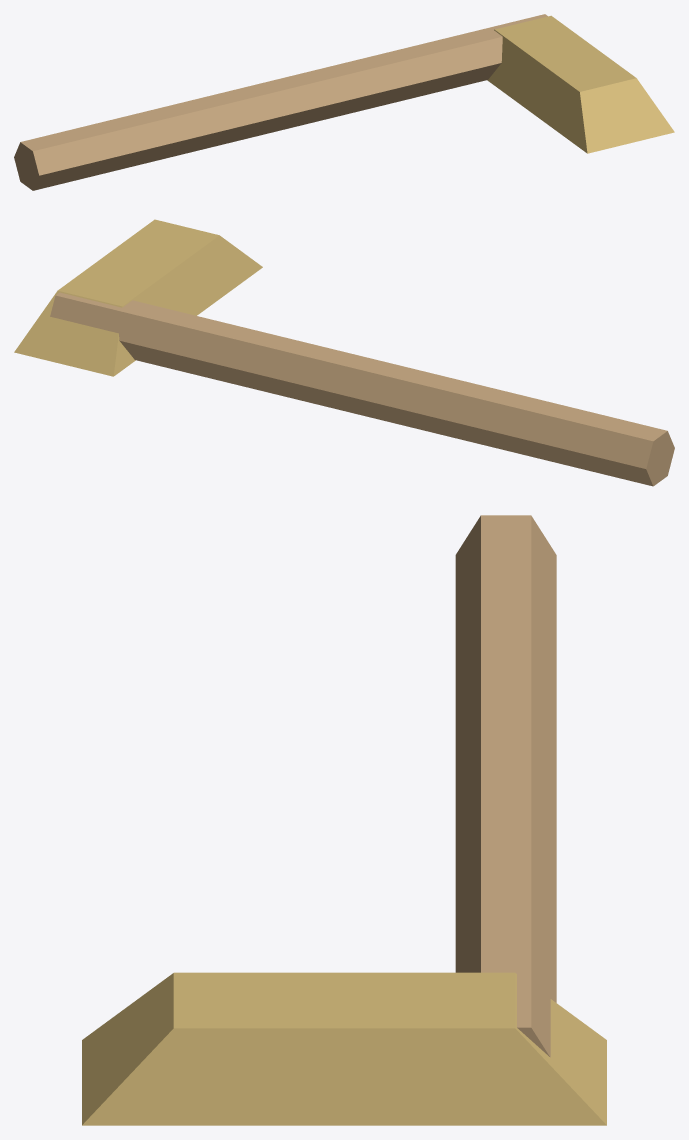
File: item_085_bronze_hoe_s.glb
3 views of the same model, one above another, from view 1: azimuth 30°, elevation 25°; view 2: azimuth 150°, elevation 25°; view 3: azimuth 270°, elevation 25° (orthographic). The views are drawn at different scales.
Visible parts, largest first — view 1: item_085_bronze_hoe_s; view 2: item_085_bronze_hoe_s; view 3: item_085_bronze_hoe_s.
Part boxes in pixels (x1,y1,x2,y2): item_085_bronze_hoe_s: [14, 14, 674, 190]; item_085_bronze_hoe_s: [14, 219, 674, 486]; item_085_bronze_hoe_s: [82, 515, 606, 1125].
Size of the model in its own units: 0.62 by 0.045 by 0.26.
